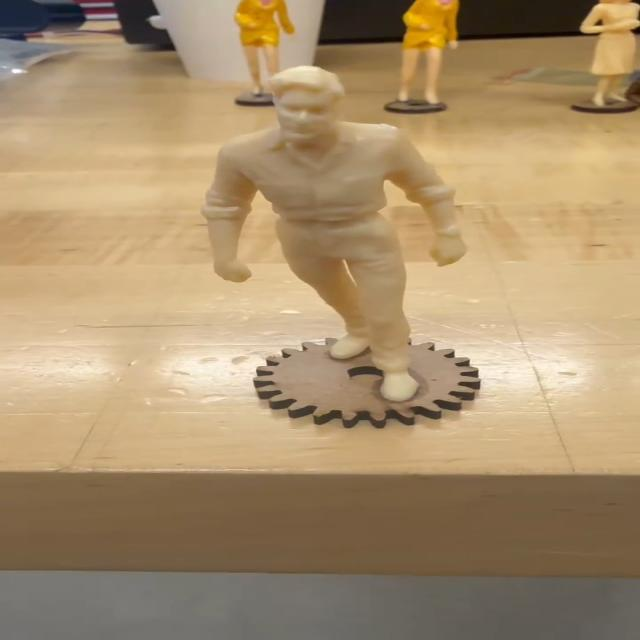Unauthorized: (182, 57, 494, 401)
